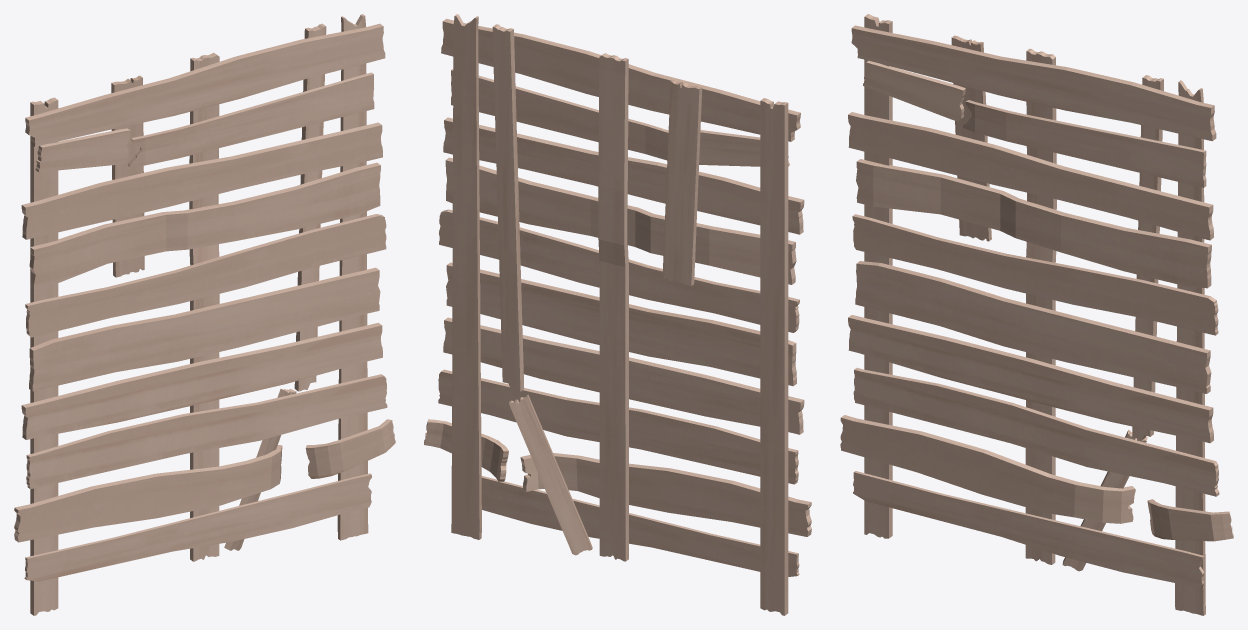
File: WoodBoard.fbx
3 views of the same model, side by side, from view 1: azimuth 30°, elevation 25°; view 2: azimuth 150°, elevation 25°; view 3: azimuth 330°, elevation 25° (orthographic).
Visible parts, largest first — view 1: SM_ENV_KNVLLG02_WoodBoard_01.mo; view 2: SM_ENV_KNVLLG02_WoodBoard_01.mo; view 3: SM_ENV_KNVLLG02_WoodBoard_01.mo.
Boxes of the visible parts, left/top/right/bottom form: SM_ENV_KNVLLG02_WoodBoard_01.mo: left=14, top=14, right=395, bottom=615; SM_ENV_KNVLLG02_WoodBoard_01.mo: left=424, top=14, right=811, bottom=615; SM_ENV_KNVLLG02_WoodBoard_01.mo: left=840, top=14, right=1233, bottom=615.
Size of the model in its own units: 6.58 by 8.56 by 0.465.
